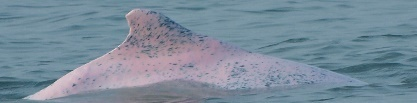fin: (18, 1, 386, 103)
